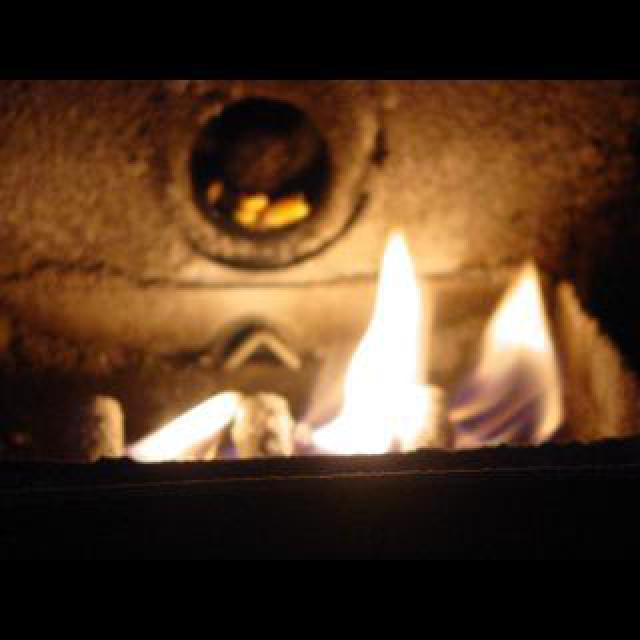Fire: (304, 236, 438, 453), (450, 262, 566, 446)
